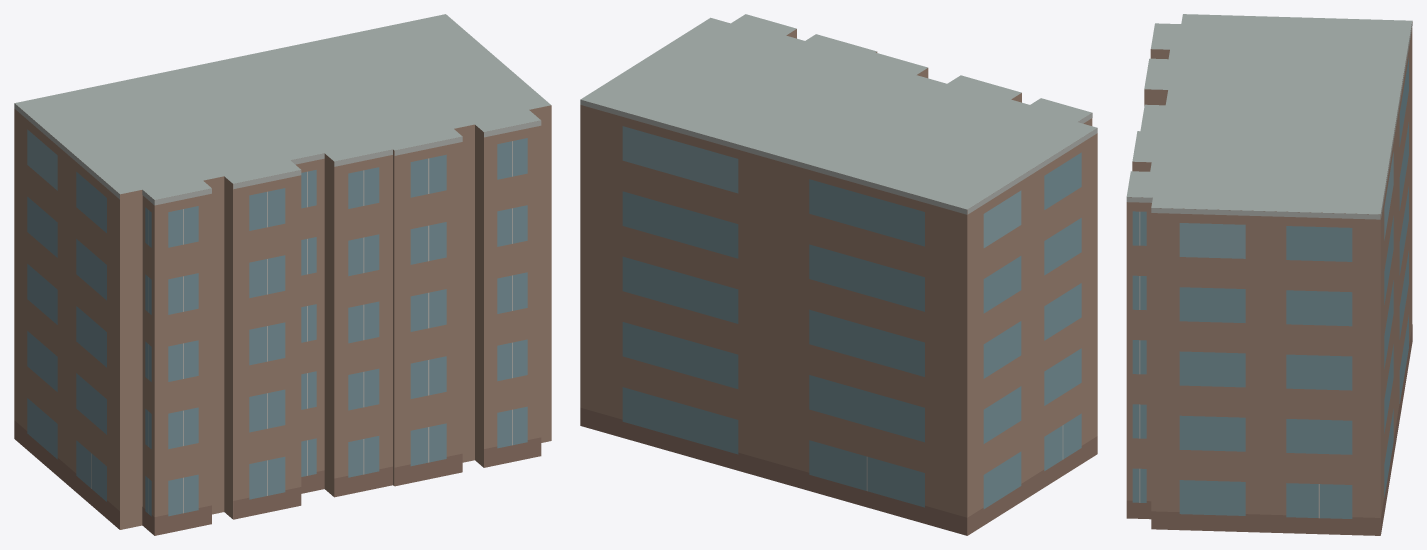
File: survey-upis-32633257.glb
3 renders of one model, left to right at view 1: azimuth 30°, elevation 25°; view 2: azimuth 150°, elevation 25°; view 3: azimuth 270°, elevation 25°, orthographic. The views are drawn at different scales.
Visible parts, largest first — view 1: survey-upis-32633257.tmp; view 2: survey-upis-32633257.tmp; view 3: survey-upis-32633257.tmp.
Part boxes in pixels (x1,y1,x2,y2): survey-upis-32633257.tmp: (14,14,551,535); survey-upis-32633257.tmp: (580,14,1097,535); survey-upis-32633257.tmp: (1126,14,1412,535).
Bounding box in the file's own units: 20.41 × 15.25 × 12.3.
